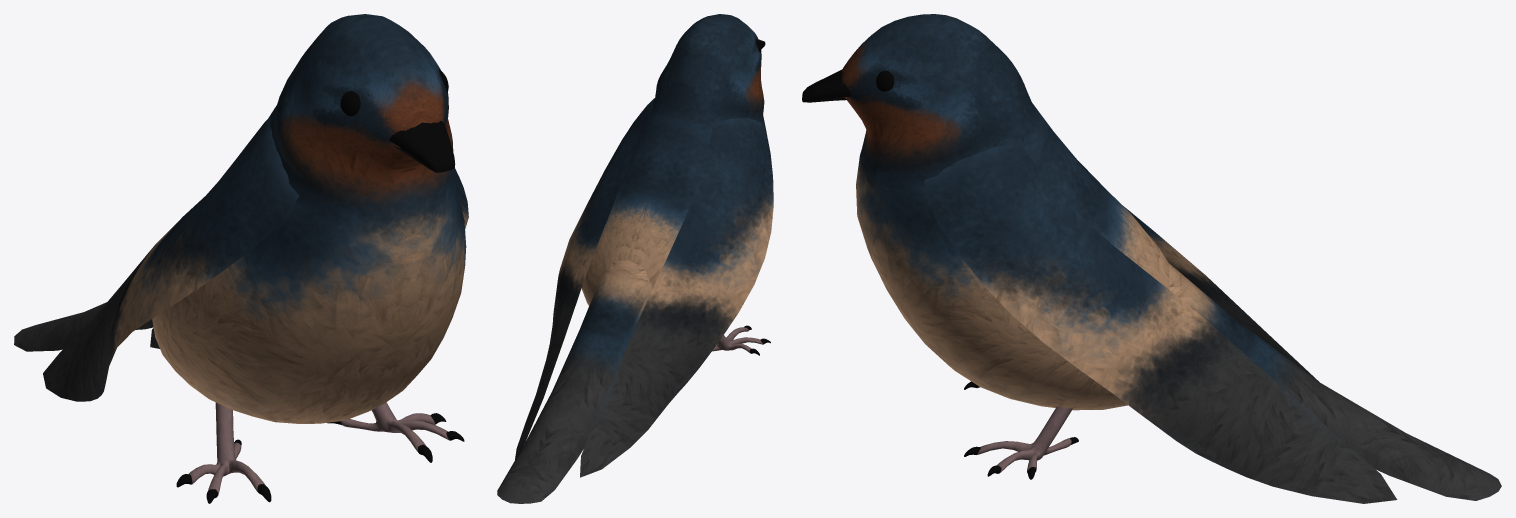
Rendered from Golondrina tijereta.glb.
The picture shows the model from 3 angles, left to right: view 1: azimuth 30°, elevation 25°; view 2: azimuth 150°, elevation 25°; view 3: azimuth 270°, elevation 25°; orthographic projection. The views are drawn at different scales.
Visible parts, largest first — view 1: Hirundo rustica; view 2: Hirundo rustica; view 3: Hirundo rustica.
Boxes of the visible parts, left/top/right/bottom form: Hirundo rustica: left=14, top=14, right=468, bottom=503; Hirundo rustica: left=497, top=14, right=773, bottom=503; Hirundo rustica: left=802, top=14, right=1501, bottom=503.
Bounding box in the file's own units: 4.35 × 7.5 × 10.18.
2 materials, 2 textured.
